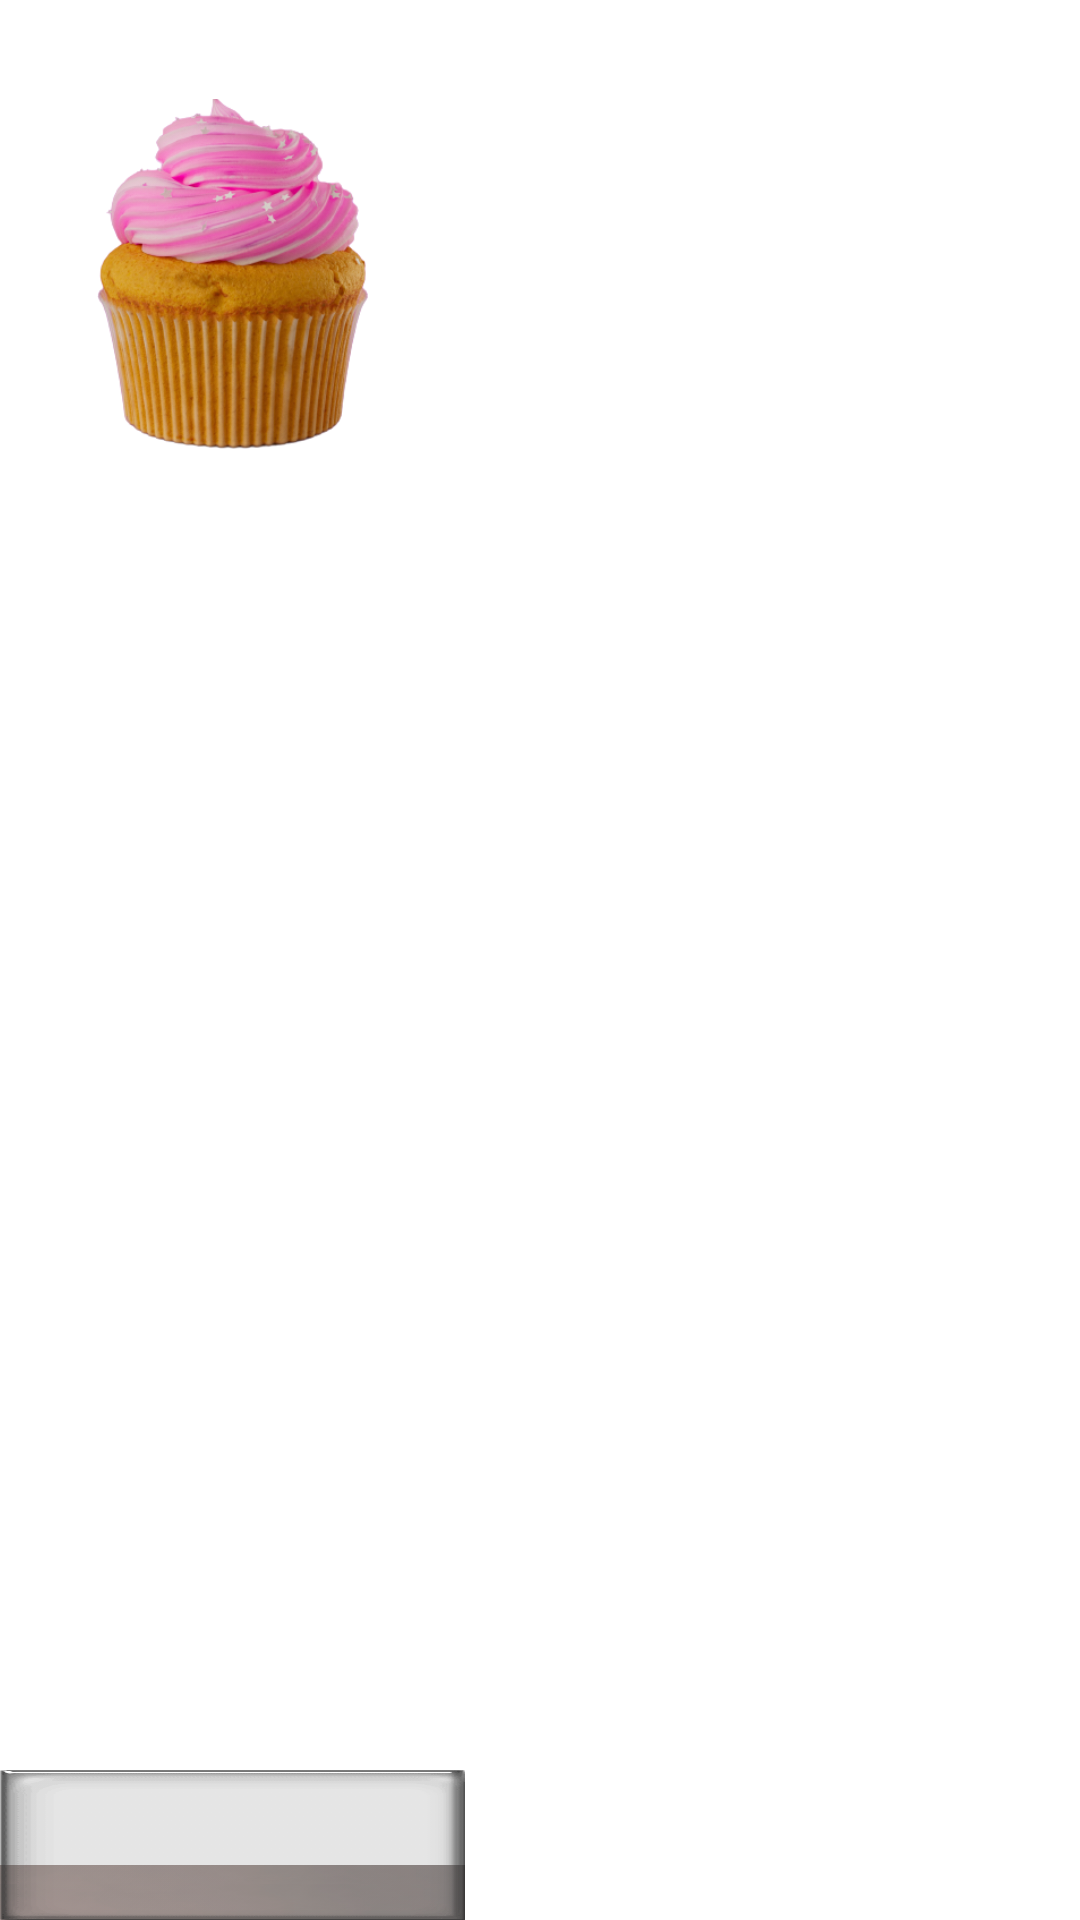

Screen size 1080px x 1920px. Icon name, then its center in pixels as [x,y]:
vanilla: [233,274]
